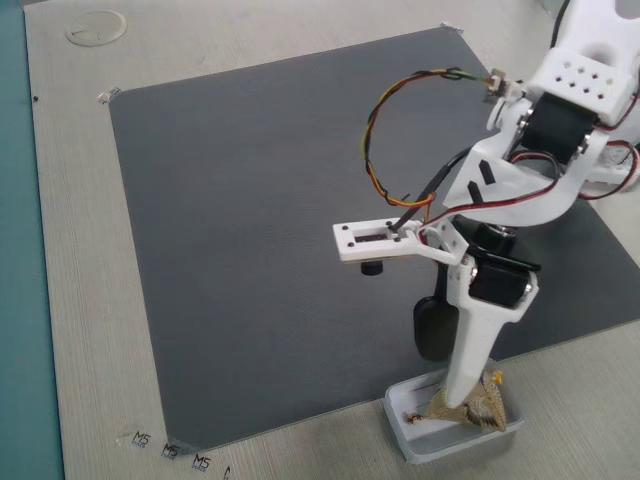gripper: (391, 240, 527, 373)
